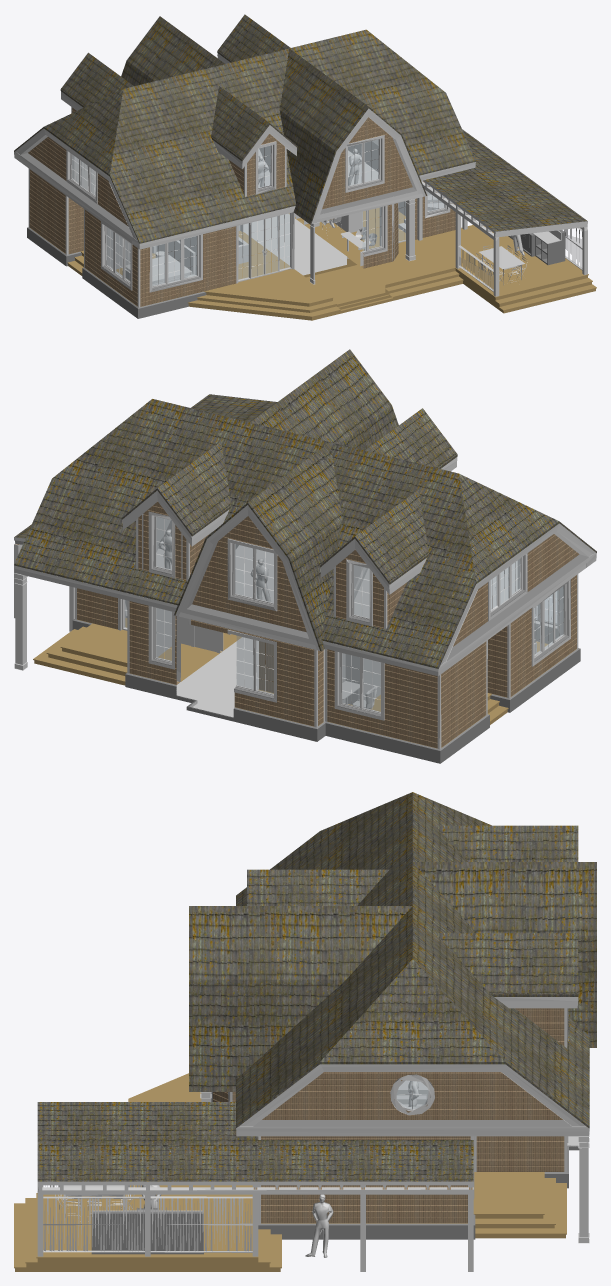
Rendered from SM_TimberStone.glb.
The picture shows the model from 3 angles, top to bottom: view 1: azimuth 30°, elevation 25°; view 2: azimuth 150°, elevation 25°; view 3: azimuth 270°, elevation 25°; orthographic projection. The views are drawn at different scales.
Visible parts, largest first — view 1: SM_TimberStone; view 2: SM_TimberStone; view 3: SM_TimberStone.
Part boxes in pixels (box(x1,y1,x2,y2)): SM_TimberStone: box(14, 14, 596, 320); SM_TimberStone: box(14, 349, 596, 763); SM_TimberStone: box(14, 792, 596, 1271).
Bounding box in the file's own units: 13.71 × 6.22 × 13.
Materials: 6 (2 with a texture image).
